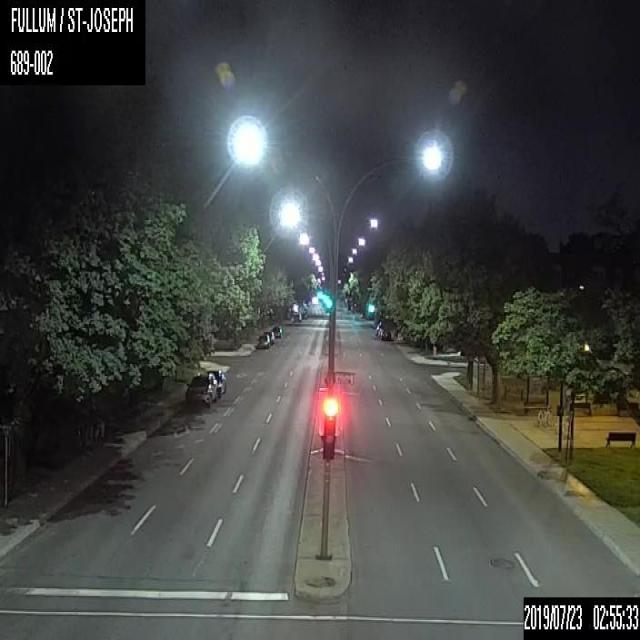vehicle: (184, 372, 216, 409), (205, 369, 226, 396), (255, 333, 269, 348), (379, 327, 391, 340), (263, 331, 274, 344), (271, 325, 282, 337)
